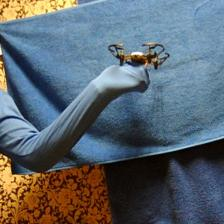drone: (108, 42, 170, 70)
